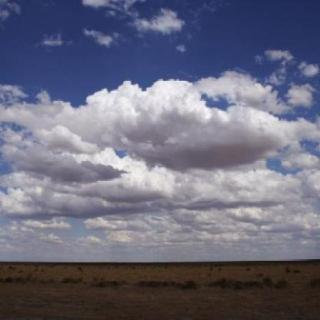Cumulus: (0, 0, 320, 262)
